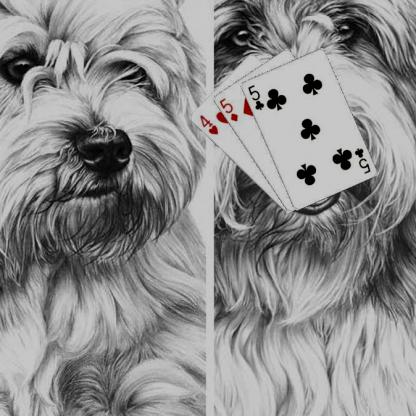4H: (196, 112, 219, 136)
5C: (351, 145, 372, 175), (245, 82, 265, 111)
5D: (216, 95, 239, 123)
